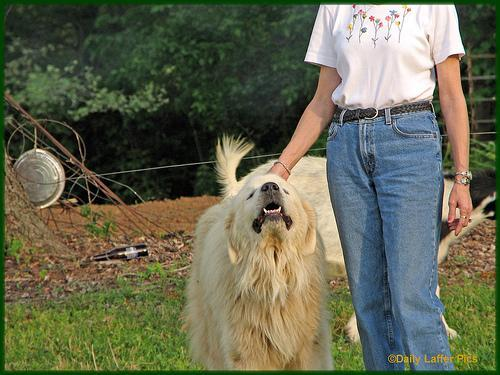Great_Pyrenees: (184, 137, 333, 374)
